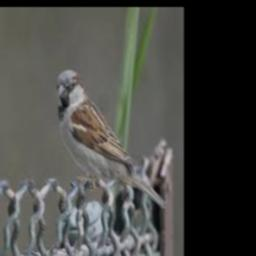Sparrow: (55, 69, 167, 213)
